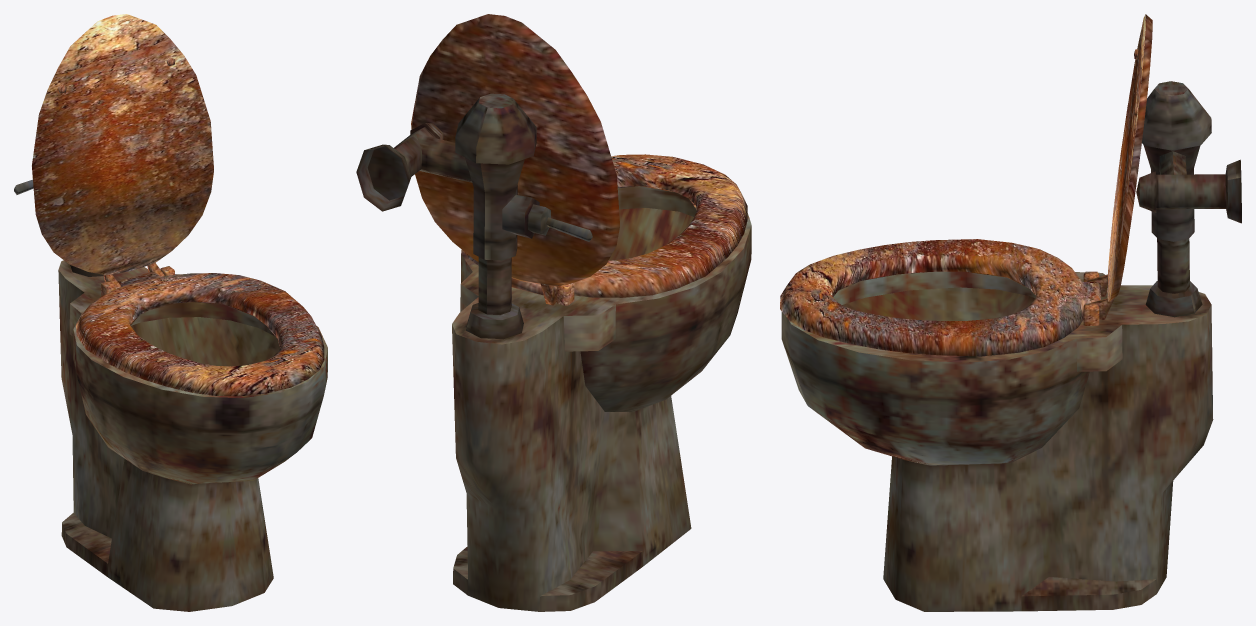
The model's file is toilet_with_seat_and_lid_dirty.glb.
The picture shows the model from 3 angles, left to right: view 1: azimuth 30°, elevation 25°; view 2: azimuth 150°, elevation 25°; view 3: azimuth 270°, elevation 25°; orthographic projection. The views are drawn at different scales.
Parts seen in each view (by area): view 1: s4studio_mesh_1.001, ToiletCheap; view 2: s4studio_mesh_1.001, ToiletCheap; view 3: s4studio_mesh_1.001, ToiletCheap.
Part boxes in pixels (bbox=[...]): s4studio_mesh_1.001: bbox=[14, 179, 327, 611]; ToiletCheap: bbox=[32, 14, 324, 396]; s4studio_mesh_1.001: bbox=[356, 93, 751, 611]; ToiletCheap: bbox=[411, 14, 747, 305]; s4studio_mesh_1.001: bbox=[781, 81, 1241, 611]; ToiletCheap: bbox=[780, 14, 1152, 356].
Bounding box in the file's own units: 0.4077 × 0.9457 × 0.707.
2 materials, 2 textured.
